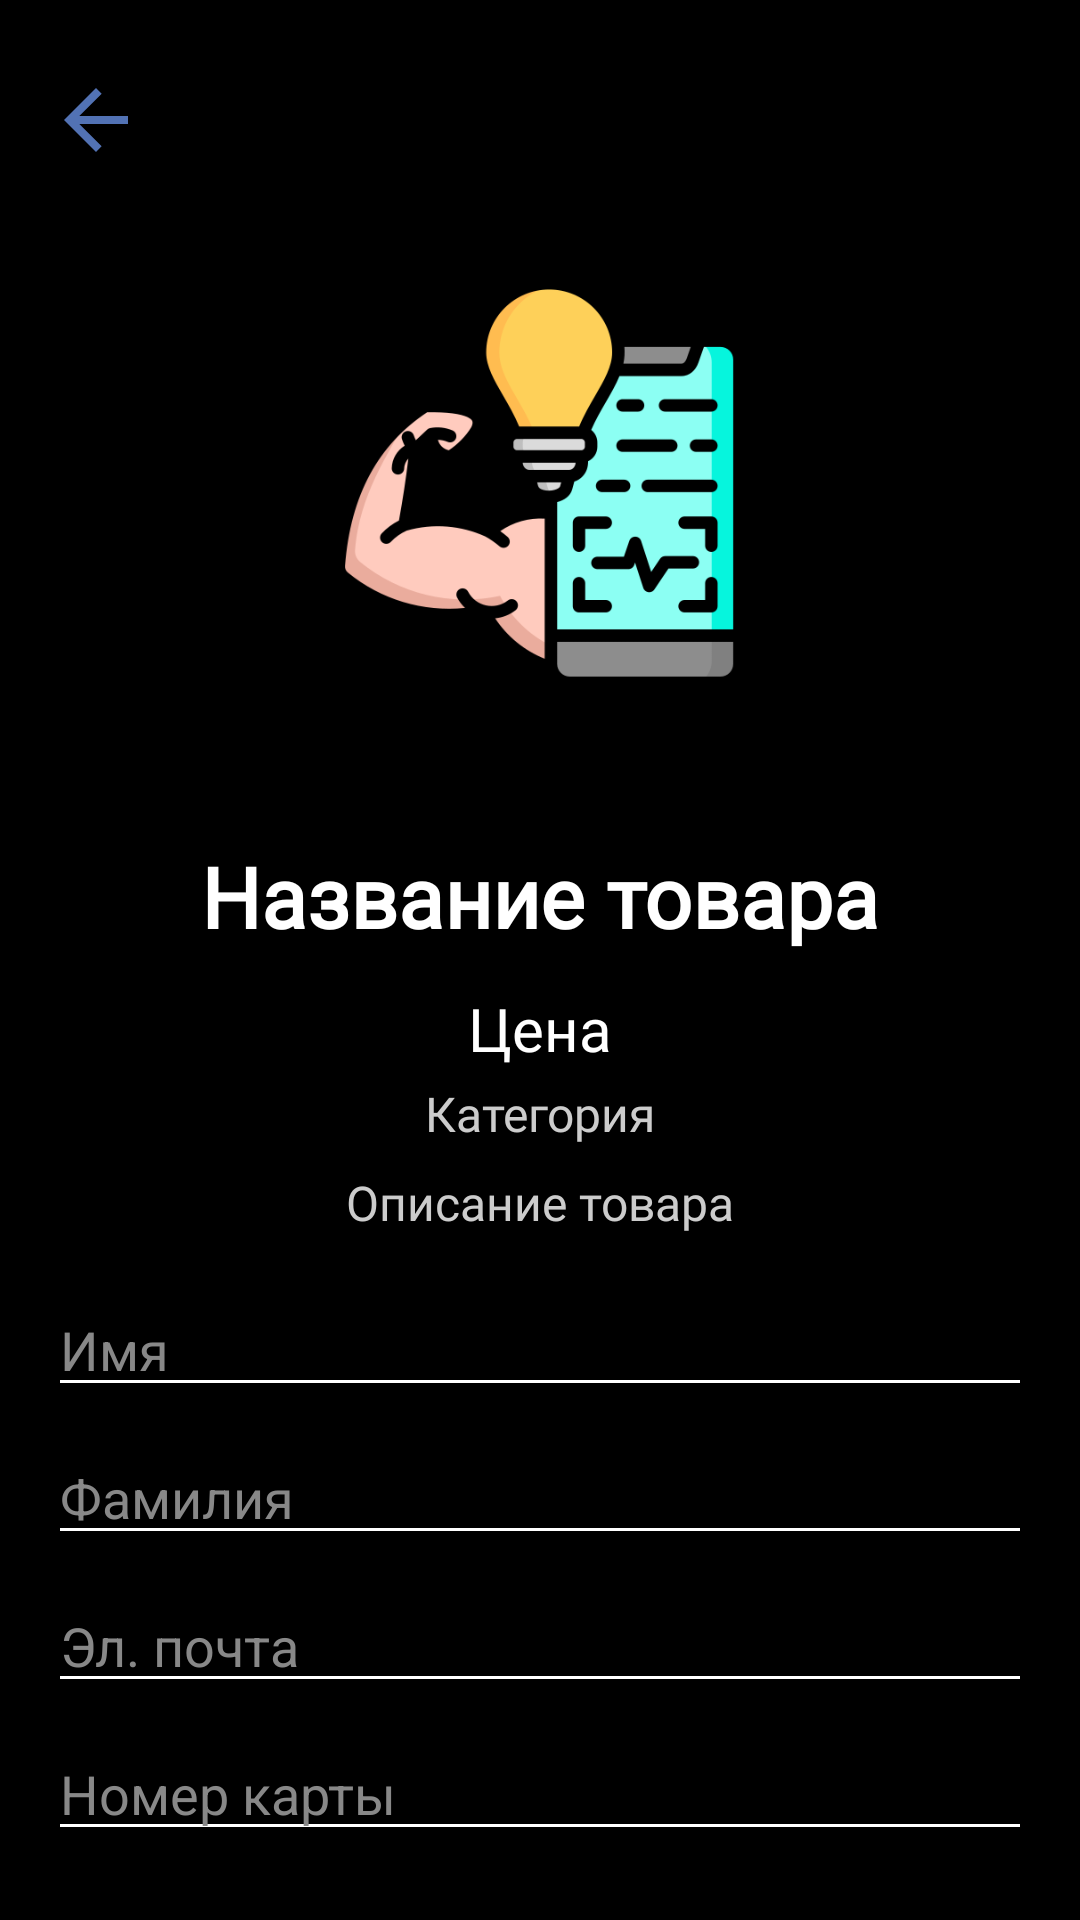

Icon click points for this 1080x1920 phone screenshot, format (x=x, y=y):
← Назад: (x=96, y=120)
